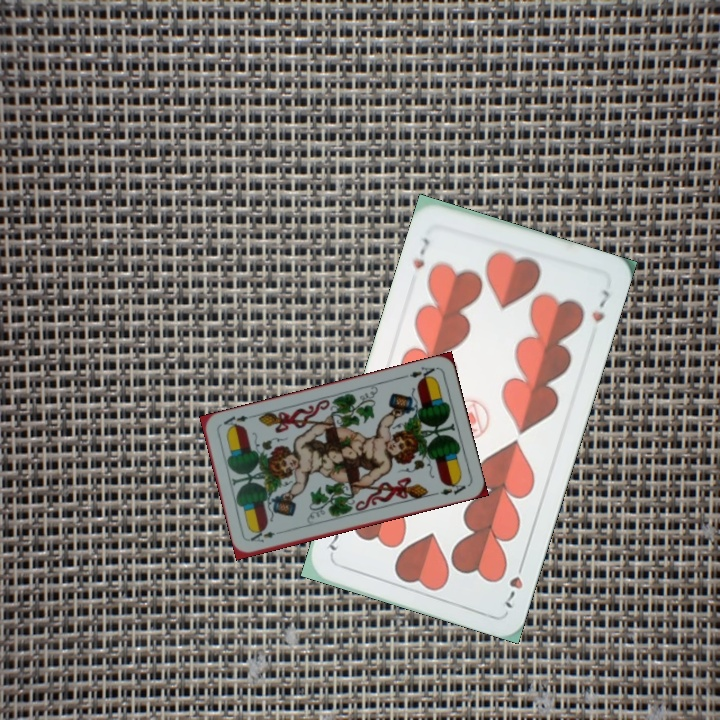EA: (399, 362, 439, 383), (246, 526, 286, 545)
H7: (500, 555, 528, 611), (408, 233, 432, 272)
